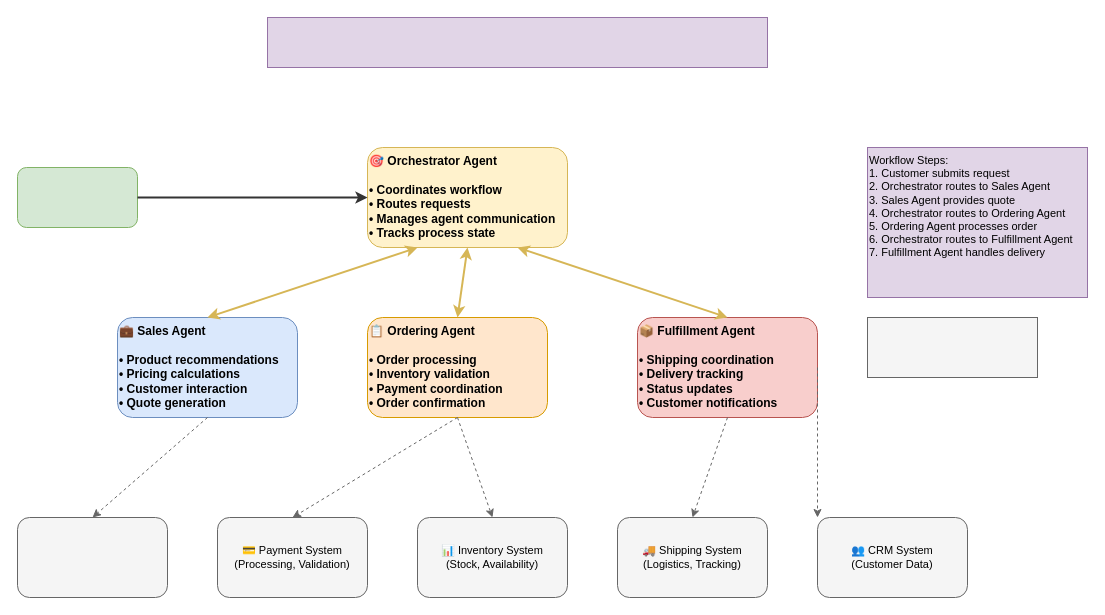
This 1105x615 diagram has some shape labels left out. The shapes that lost their labels are listed below. From the top down, each one's centre as x and y in pixels, then its label:
point (517, 42): Multiagent AI Sales System Architecture
point (77, 197): Customer Request
point (952, 347): Legend: ━━━ Agent Communication ┅┅┅ External System Access
point (92, 557): 🗄️ Database (Products, Orders, Customers)
